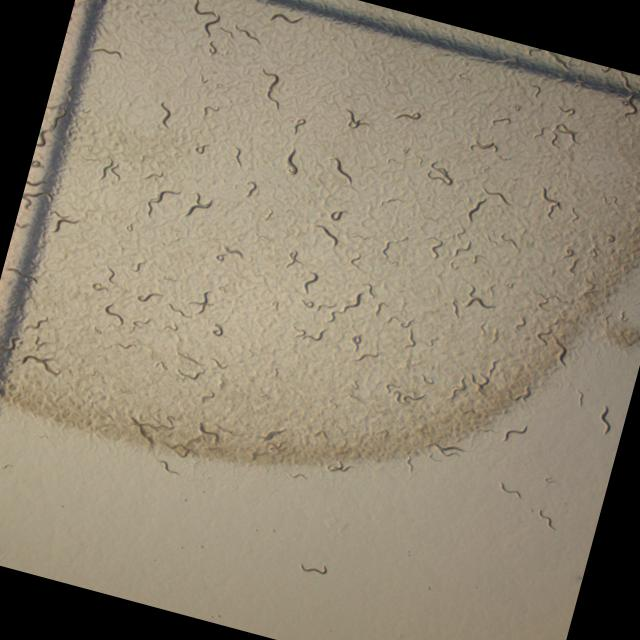filarid: (326, 291, 362, 322), (147, 189, 178, 215), (463, 284, 495, 308), (261, 67, 279, 108), (263, 69, 279, 108), (185, 192, 212, 215), (428, 163, 452, 184), (344, 108, 369, 128), (551, 333, 566, 364), (199, 422, 219, 445), (315, 224, 338, 244), (466, 197, 485, 221), (484, 187, 510, 204), (333, 157, 351, 180), (501, 424, 526, 440), (498, 481, 521, 498), (235, 25, 258, 42), (432, 443, 463, 455), (203, 14, 220, 35), (537, 509, 554, 529), (284, 148, 297, 174), (599, 405, 610, 432), (270, 12, 297, 23), (303, 272, 318, 290), (193, 0, 212, 14), (326, 460, 350, 471), (301, 329, 324, 340), (300, 563, 325, 573), (160, 102, 170, 126), (286, 150, 296, 172), (396, 110, 420, 119), (232, 145, 242, 166), (210, 357, 227, 369), (373, 300, 387, 314), (361, 283, 375, 296), (450, 297, 459, 317), (217, 424, 234, 434), (293, 117, 304, 132), (329, 209, 345, 219), (518, 386, 530, 399), (246, 180, 256, 195), (397, 317, 412, 327), (203, 105, 219, 114), (293, 118, 304, 131), (202, 390, 216, 400), (194, 143, 208, 152), (160, 460, 171, 471), (536, 331, 548, 341), (576, 389, 583, 405), (405, 454, 412, 470), (217, 372, 224, 388), (317, 303, 334, 309), (208, 41, 216, 53), (406, 334, 414, 346), (353, 334, 359, 349), (303, 300, 314, 307), (222, 29, 232, 36), (147, 172, 162, 176), (479, 322, 484, 333), (266, 210, 271, 218), (387, 315, 395, 320), (216, 324, 221, 330)
